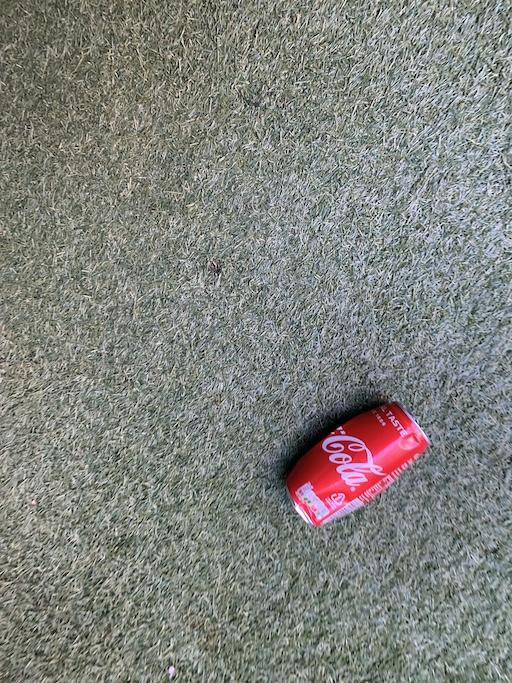Aluminum can: (266, 372, 452, 530)
